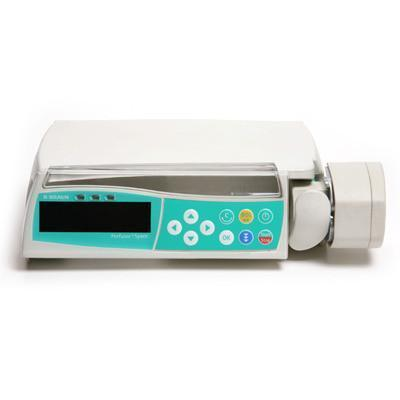BBraun Infusomat Space: (19, 111, 293, 266)
